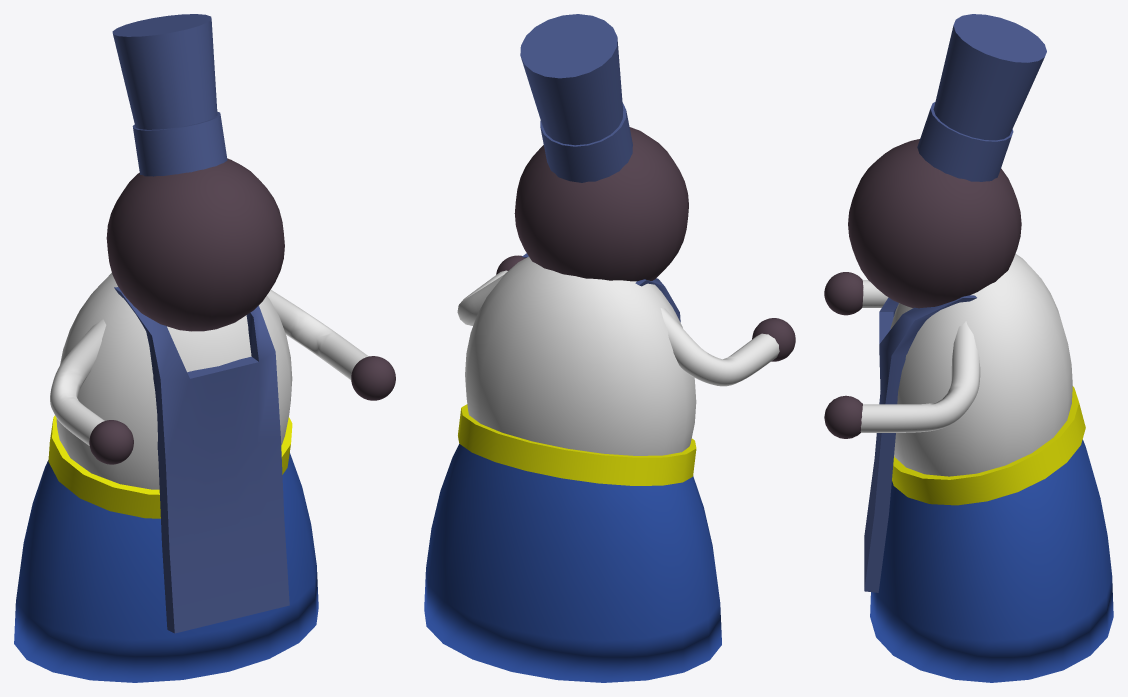
Rendered from bluePlayer_3.fbx.
3 renders of one model, left to right at view 1: azimuth 30°, elevation 25°; view 2: azimuth 150°, elevation 25°; view 3: azimuth 270°, elevation 25°, orthographic. The views are drawn at different scales.
Parts seen in each view (by area): view 1: skirt, apron, head, chest, pCylinder1, arm (×2), pCylinder2, belt, pSphere1 (×2); view 2: skirt, chest, head, pCylinder1, belt, arm (×2), pCylinder2, pSphere1; view 3: skirt, chest, head, pCylinder1, apron, belt, arm (×2), pCylinder2, pSphere1 (×2).
Boxes of the visible parts, x1=… form: skirt: x1=14, y1=452, x2=318, y2=682; apron: x1=114, y1=287, x2=289, y2=633; head: x1=106, y1=158, x2=284, y2=331; chest: x1=56, y1=273, x2=292, y2=489; pCylinder1: x1=112, y1=14, x2=217, y2=129; arm (×2): x1=50, y1=290, x2=368, y2=445; pCylinder2: x1=132, y1=111, x2=227, y2=176; belt: x1=48, y1=415, x2=292, y2=518; pSphere1 (×2): x1=89, y1=356, x2=395, y2=464; skirt: x1=424, y1=444, x2=721, y2=682; chest: x1=465, y1=256, x2=696, y2=455; head: x1=514, y1=127, x2=688, y2=281; pCylinder1: x1=520, y1=14, x2=623, y2=145; belt: x1=458, y1=404, x2=696, y2=485; arm (×2): x1=457, y1=270, x2=779, y2=386; pCylinder2: x1=540, y1=103, x2=632, y2=182; pSphere1: x1=752, y1=318, x2=795, y2=361; skirt: x1=870, y1=439, x2=1113, y2=682; chest: x1=890, y1=253, x2=1072, y2=476; head: x1=848, y1=139, x2=1021, y2=308; pCylinder1: x1=933, y1=14, x2=1046, y2=140; apron: x1=864, y1=295, x2=976, y2=592; belt: x1=892, y1=386, x2=1085, y2=505; arm (×2): x1=860, y1=280, x2=980, y2=432; pCylinder2: x1=917, y1=102, x2=1013, y2=181; pSphere1 (×2): x1=824, y1=272, x2=863, y2=438.
Bounding box in the file's own units: 23.24 × 45.1 × 20.
